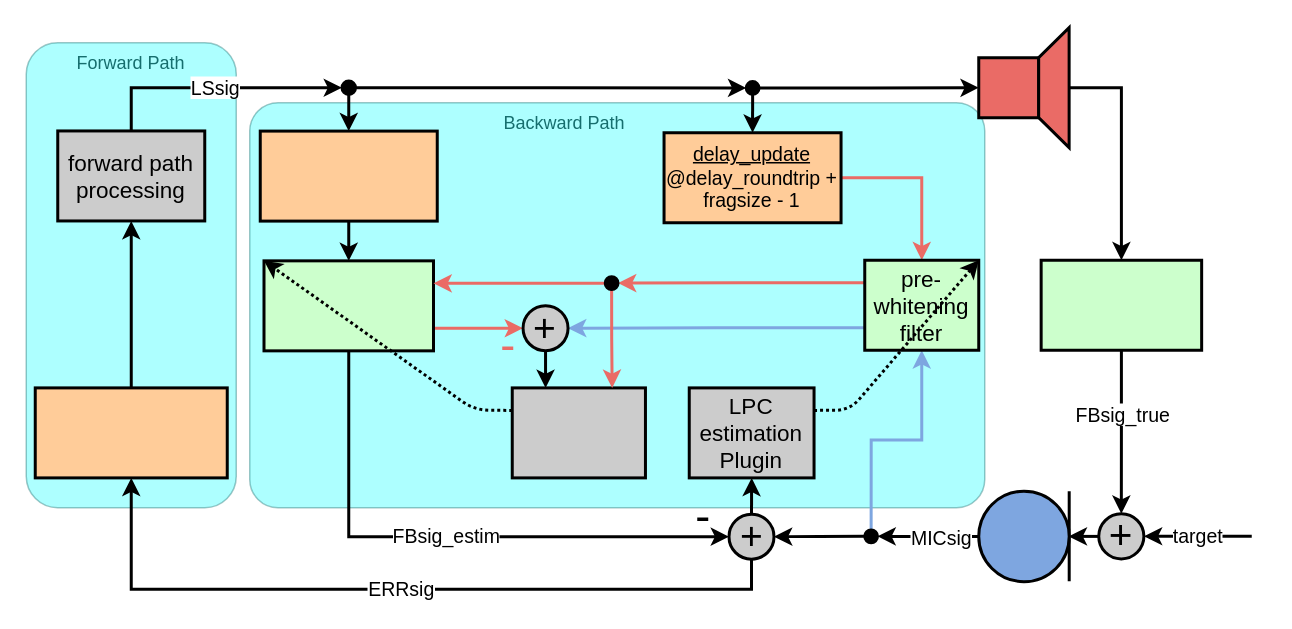
Image size: 1292x629. Some labels were removed from this diagram. Each missing label, with the centre of its shape:
"delay_forward_path" belongs at (130,432).
"delay_roundtrip (measured roundtrip latency) - fragsize" belongs at (348,175).
"FBfilter_estim" belongs at (348,305).
"FBfilter_true" belongs at (1120,304).
"NLMS filter estimation" belongs at (578,432).
